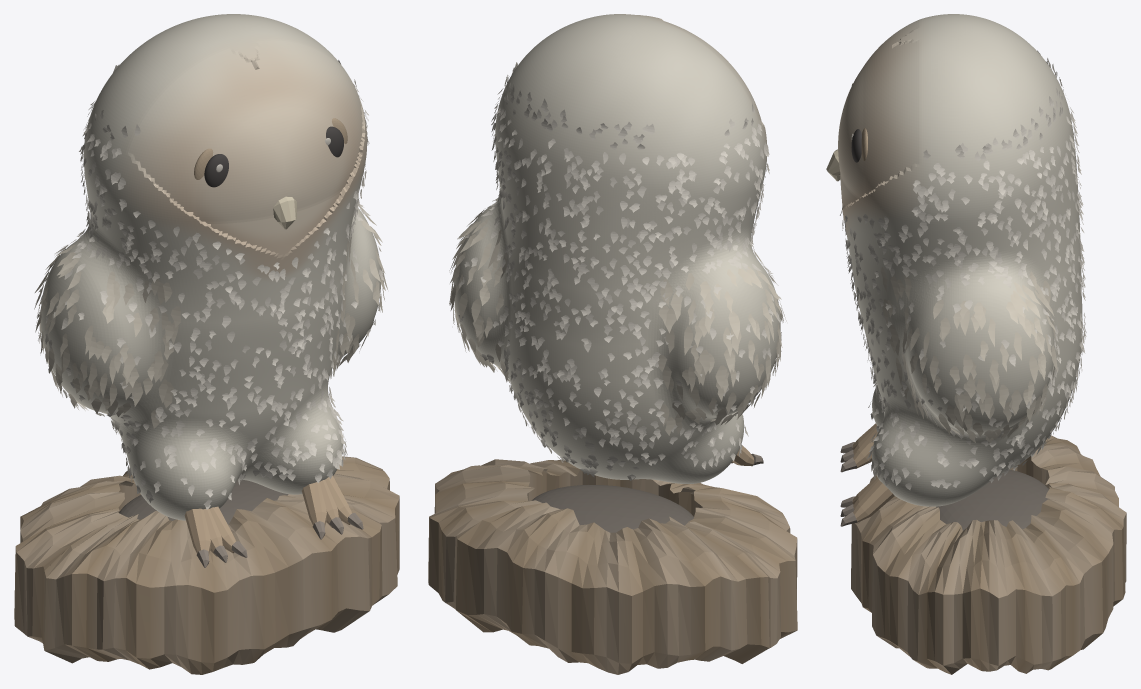
File: run96b_baseline_NOT_APPROVED.glb
The picture shows the model from 3 angles, left to right: view 1: azimuth 30°, elevation 25°; view 2: azimuth 150°, elevation 25°; view 3: azimuth 270°, elevation 25°; orthographic projection. The views are drawn at different scales.
Visible parts, largest first — view 1: continuous_juvenile_sculpt, irregular_senescent_hollow_lip, directional_body_1550_vellus_fibres, directional_wing_286_vellus_fibres, interior_hollow_shadow, toe_-1_-1, toe_1_-1, black_iris_-1, ivory_hook_bill; view 2: continuous_juvenile_sculpt, irregular_senescent_hollow_lip, directional_body_1550_vellus_fibres, directional_wing_286_vellus_fibres, interior_hollow_shadow; view 3: continuous_juvenile_sculpt, irregular_senescent_hollow_lip, directional_body_1550_vellus_fibres, directional_wing_286_vellus_fibres, interior_hollow_shadow, toe_1_1.
Part boxes in pixels (x1=…): continuous_juvenile_sculpt: x1=40, y1=14, x2=380, y2=520; irregular_senescent_hollow_lip: x1=14, y1=456, x2=399, y2=674; directional_body_1550_vellus_fibres: x1=37, y1=60, x2=384, y2=509; directional_wing_286_vellus_fibres: x1=34, y1=205, x2=387, y2=428; interior_hollow_shadow: x1=119, y1=479, x2=288, y2=524; toe_-1_-1: x1=184, y1=508, x2=210, y2=555; toe_1_-1: x1=302, y1=482, x2=326, y2=527; black_iris_-1: x1=204, y1=154, x2=228, y2=187; ivory_hook_bill: x1=273, y1=196, x2=296, y2=229; continuous_juvenile_sculpt: x1=454, y1=14, x2=780, y2=483; irregular_senescent_hollow_lip: x1=428, y1=459, x2=797, y2=674; directional_body_1550_vellus_fibres: x1=451, y1=62, x2=781, y2=480; directional_wing_286_vellus_fibres: x1=449, y1=210, x2=786, y2=435; interior_hollow_shadow: x1=532, y1=485, x2=693, y2=532; continuous_juvenile_sculpt: x1=838, y1=14, x2=1082, y2=506; irregular_senescent_hollow_lip: x1=851, y1=435, x2=1126, y2=674; directional_body_1550_vellus_fibres: x1=840, y1=50, x2=1086, y2=490; directional_wing_286_vellus_fibres: x1=880, y1=267, x2=1059, y2=442; interior_hollow_shadow: x1=936, y1=469, x2=1049, y2=530; toe_1_1: x1=853, y1=480, x2=894, y2=523.
Size of the model in its own units: 2.07 by 3.37 by 1.56.
